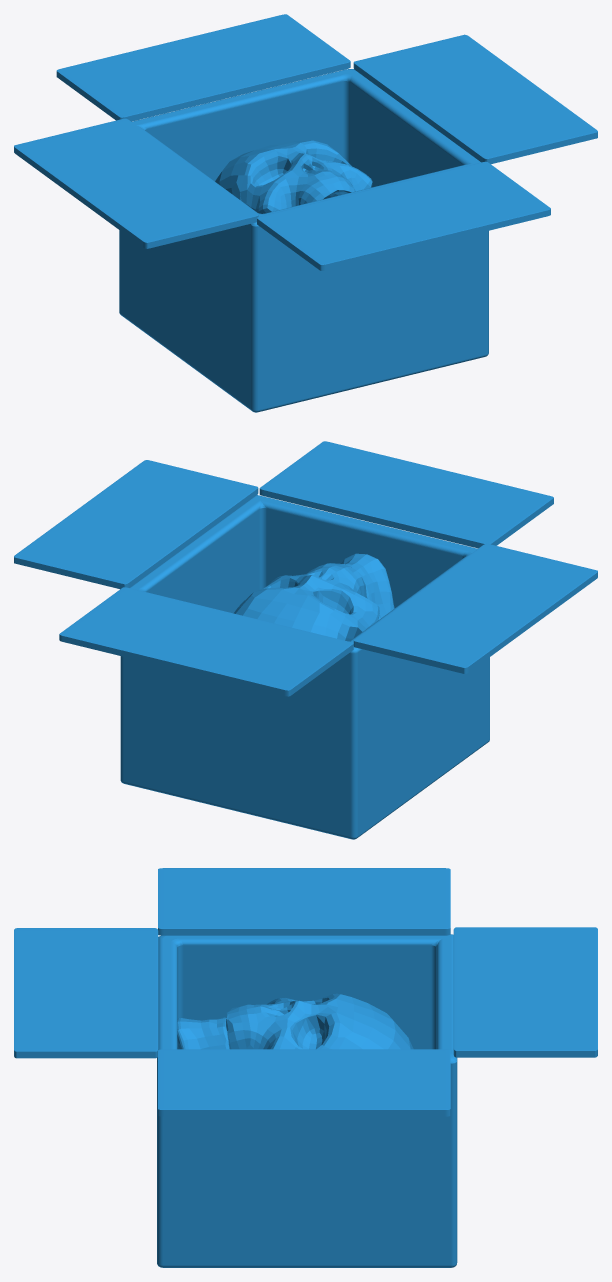
File: dead_head.glb
3 views of the same model, one above another, from view 1: azimuth 30°, elevation 25°; view 2: azimuth 150°, elevation 25°; view 3: azimuth 270°, elevation 25° (orthographic). The views are drawn at different scales.
Visible parts, largest first — view 1: Cube.002, Cube.005, Cube.004, Cube.003, Cube.001, 0edc2d59ddb14eb482b3dca410e8d8bb.obj; view 2: Cube.002, Cube.004, Cube.005, Cube.003, Cube.001, 0edc2d59ddb14eb482b3dca410e8d8bb.obj; view 3: Cube.002, Cube.001, Cube.003, Cube.004, Cube.005, 0edc2d59ddb14eb482b3dca410e8d8bb.obj.
Part boxes in pixels (x1=…): Cube.002: x1=119, y1=69, x2=488, y2=412; Cube.005: x1=257, y1=161, x2=550, y2=270; Cube.004: x1=56, y1=14, x2=350, y2=121; Cube.003: x1=14, y1=118, x2=258, y2=248; Cube.001: x1=353, y1=34, x2=597, y2=164; 0edc2d59ddb14eb482b3dca410e8d8bb.obj: x1=215, y1=140, x2=372, y2=213; Cube.002: x1=120, y1=495, x2=489, y2=839; Cube.004: x1=59, y1=587, x2=353, y2=696; Cube.005: x1=259, y1=441, x2=553, y2=548; Cube.003: x1=353, y1=543, x2=597, y2=673; Cube.001: x1=14, y1=460, x2=258, y2=589; 0edc2d59ddb14eb482b3dca410e8d8bb.obj: x1=233, y1=553, x2=394, y2=641; Cube.002: x1=157, y1=934, x2=457, y2=1267; Cube.001: x1=158, y1=1049, x2=450, y2=1116; Cube.003: x1=158, y1=868, x2=450, y2=935; Cube.004: x1=453, y1=927, x2=597, y2=1057; Cube.005: x1=14, y1=928, x2=158, y2=1058; 0edc2d59ddb14eb482b3dca410e8d8bb.obj: x1=177, y1=993, x2=413, y2=1049.
Bounding box in the file's own units: 4.07 × 1.7 × 4.13.
